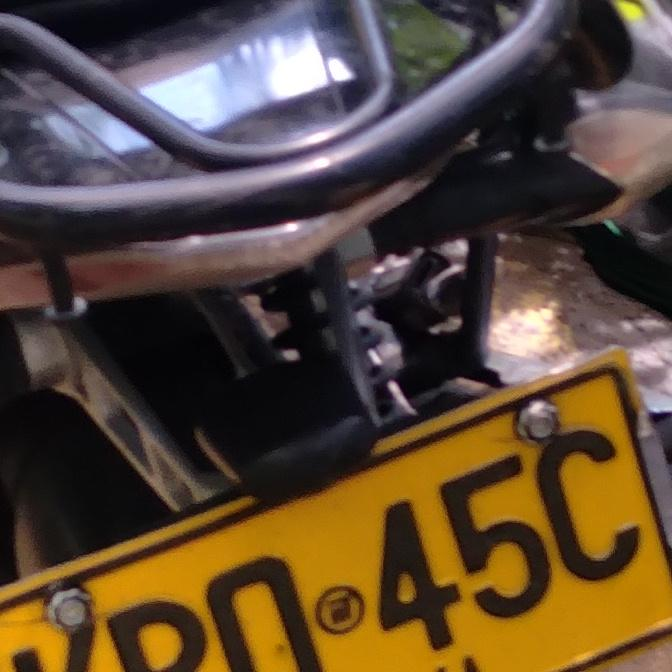plates: (0, 370, 672, 672)
